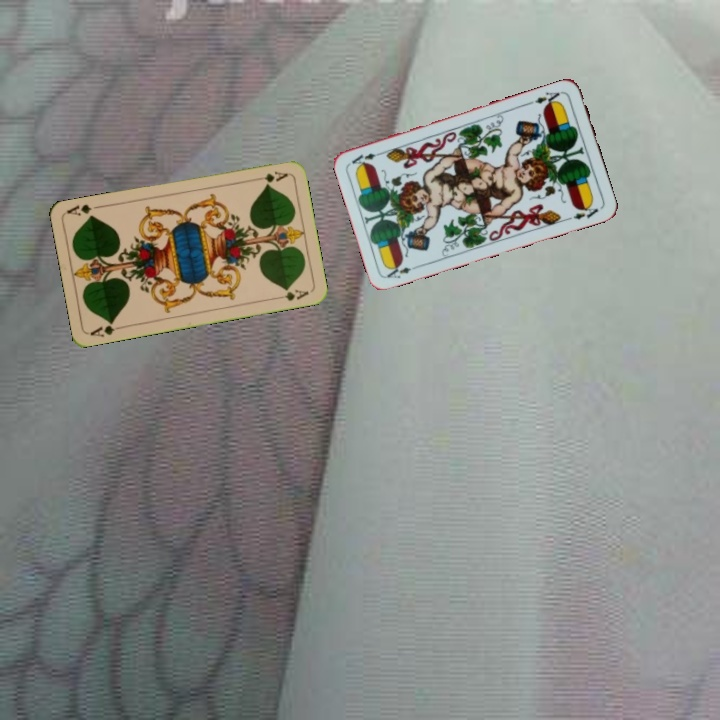EA: (383, 260, 422, 281), (531, 87, 565, 109)
GA: (86, 317, 127, 339), (250, 167, 290, 186)
